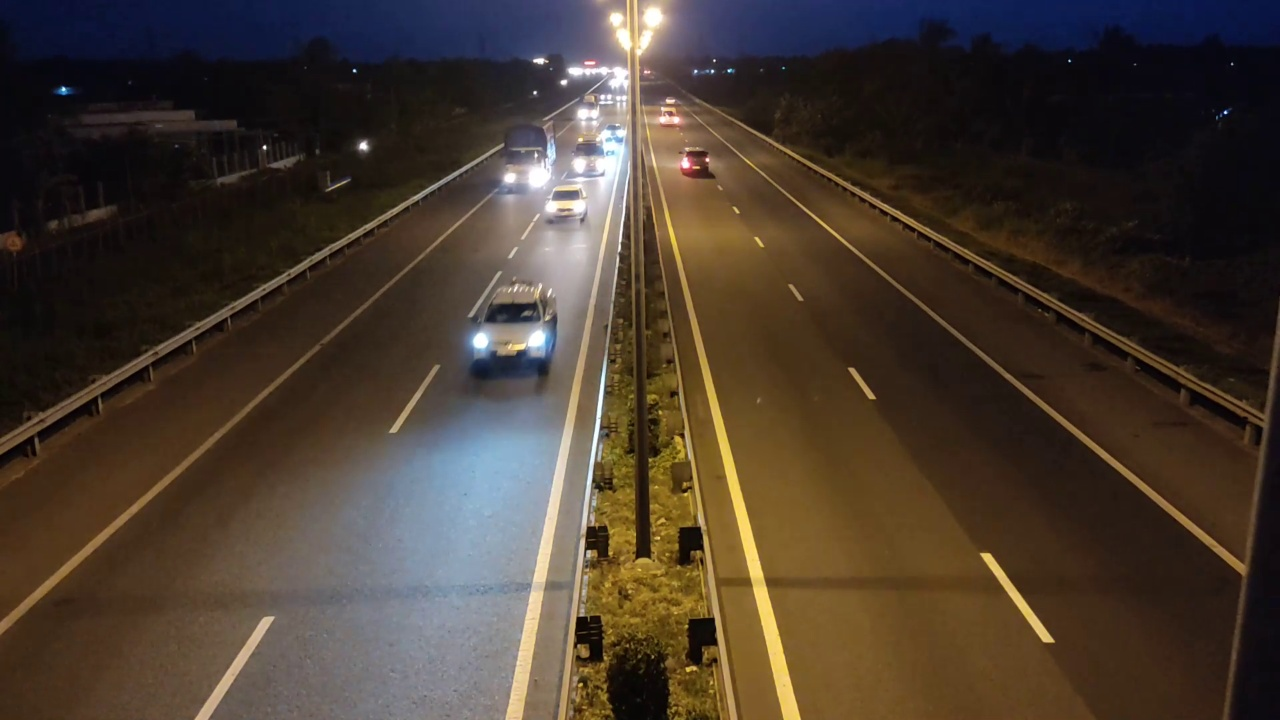car: (467, 281, 559, 379), (543, 183, 588, 227), (678, 147, 712, 178)
